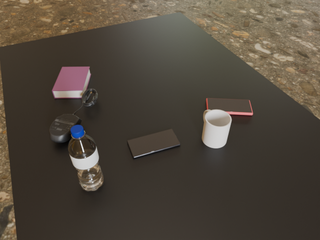book: (52, 67, 91, 98)
bottle: (68, 125, 104, 192)
cup: (202, 110, 231, 148)
mouse: (49, 112, 82, 143)
phone: (127, 129, 180, 158), (206, 98, 253, 115)
